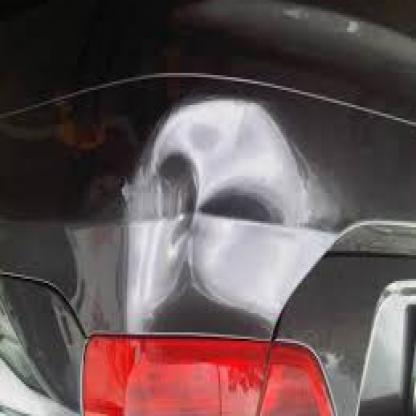dent: (108, 105, 303, 328)
